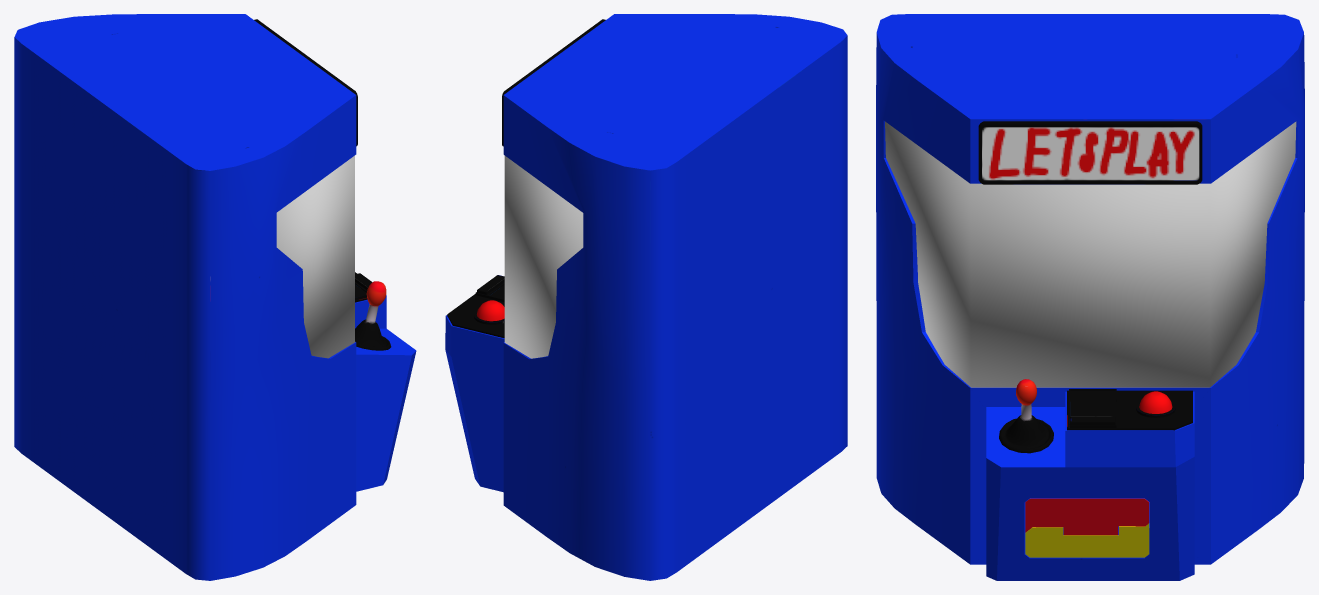
Rendered from CLAWMACHINE.obj.
The picture shows the model from 3 angles, left to right: view 1: azimuth 30°, elevation 25°; view 2: azimuth 150°, elevation 25°; view 3: azimuth 270°, elevation 25°; orthographic projection. The views are drawn at different scales.
Visible parts, largest first — view 1: Cube, Cube.007, Cube.001, Cylinder, Cube.003; view 2: Cube, Cube.007, Cube.001, Cube.002, Cylinder.001, Cube.014, Cube.003; view 3: Cube, Cube.007, Cube.001, Cube.003, Cube.005, Cube.004, Cube.002, Cylinder, Cube.014, Cylinder.001.
Boxes of the visible parts, left/top/right/bottom form: Cube: left=14, top=14, right=356, bottom=580; Cube.007: left=276, top=155, right=354, bottom=358; Cube.001: left=355, top=295, right=416, bottom=491; Cylinder: left=355, top=281, right=391, bottom=350; Cube.003: left=254, top=19, right=357, bottom=146; Cube: left=503, top=14, right=847, bottom=580; Cube.007: left=504, top=156, right=583, bottom=358; Cube.001: left=445, top=315, right=504, bottom=492; Cube.002: left=447, top=294, right=504, bottom=338; Cylinder.001: left=474, top=300, right=504, bottom=324; Cube.014: left=475, top=275, right=504, bottom=302; Cube.003: left=502, top=19, right=605, bottom=146; Cube: left=876, top=14, right=1304, bottom=564; Cube.007: left=885, top=121, right=1296, bottom=387; Cube.001: left=986, top=391, right=1194, bottom=580; Cube.003: left=978, top=121, right=1202, bottom=184; Cube.005: left=1025, top=498, right=1149, bottom=535; Cube.004: left=1025, top=523, right=1149, bottom=557; Cube.002: left=1067, top=390, right=1192, bottom=430; Cylinder: left=999, top=379, right=1053, bottom=453; Cube.014: left=1069, top=389, right=1116, bottom=427; Cylinder.001: left=1136, top=391, right=1175, bottom=417.
Bounding box in the file's own units: 2.2 × 3.16 × 2.76.
2 materials, 1 textured.
